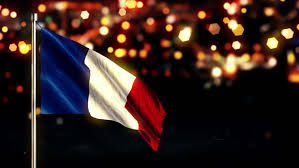French Flag: (42, 28, 167, 152)
